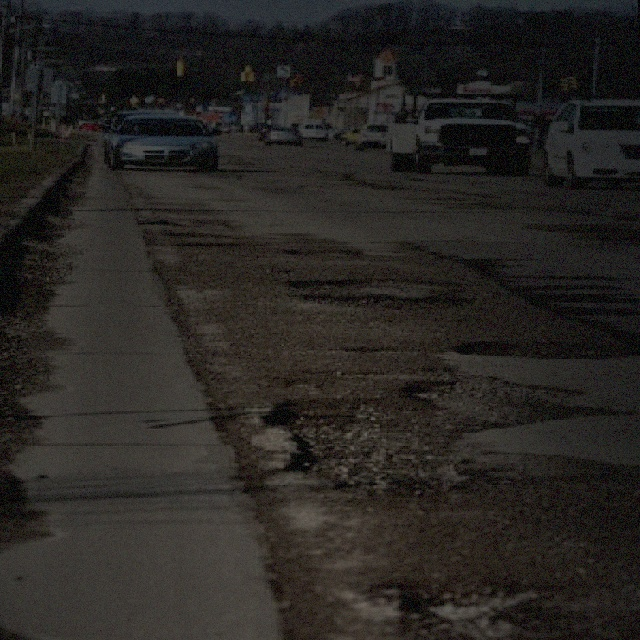pothole: (256, 394, 465, 501), (378, 578, 552, 628), (401, 376, 557, 426), (288, 291, 476, 317), (444, 337, 638, 362), (284, 275, 458, 285), (277, 246, 365, 259)
